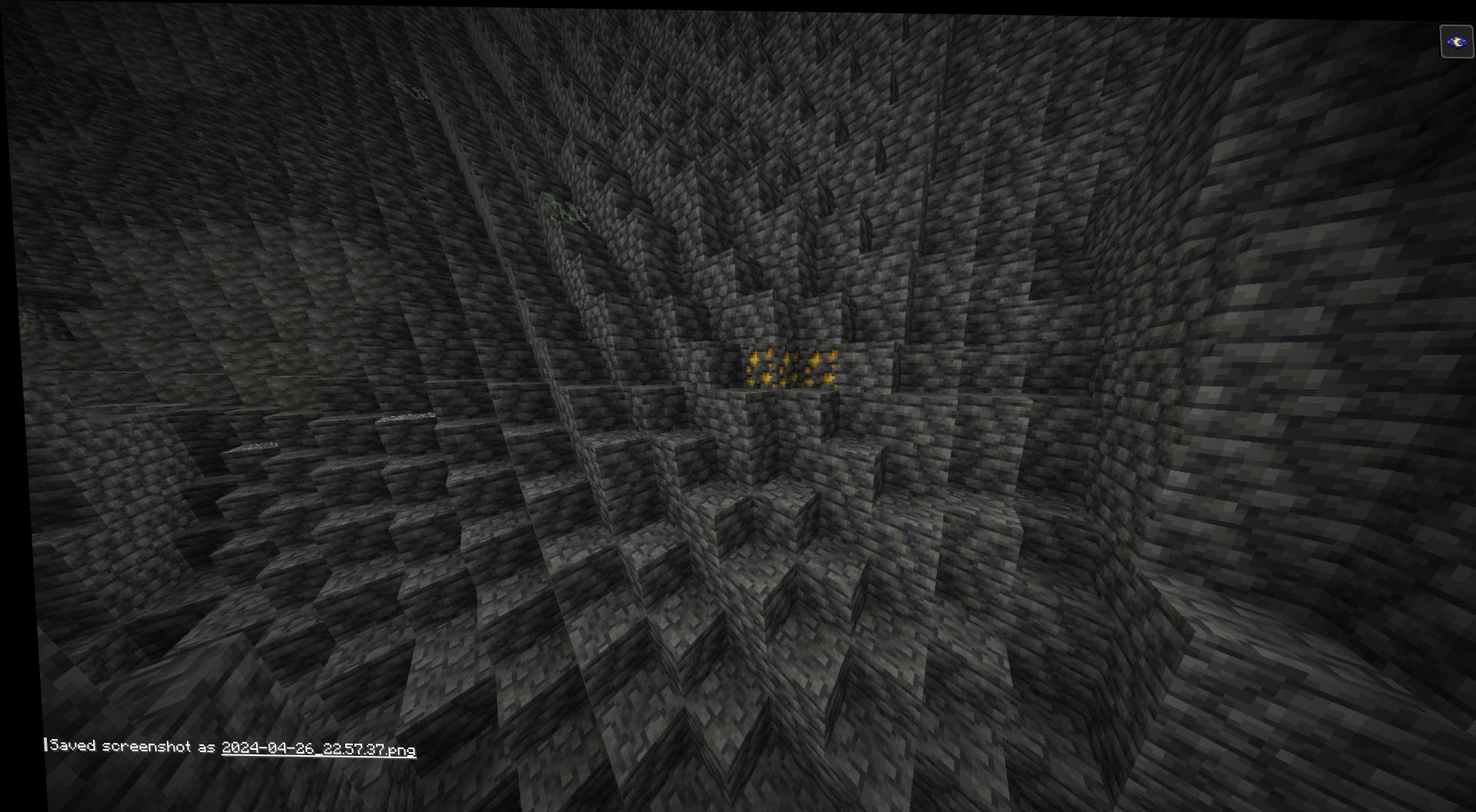gold ore: (742, 344, 790, 384), (790, 344, 839, 383)
